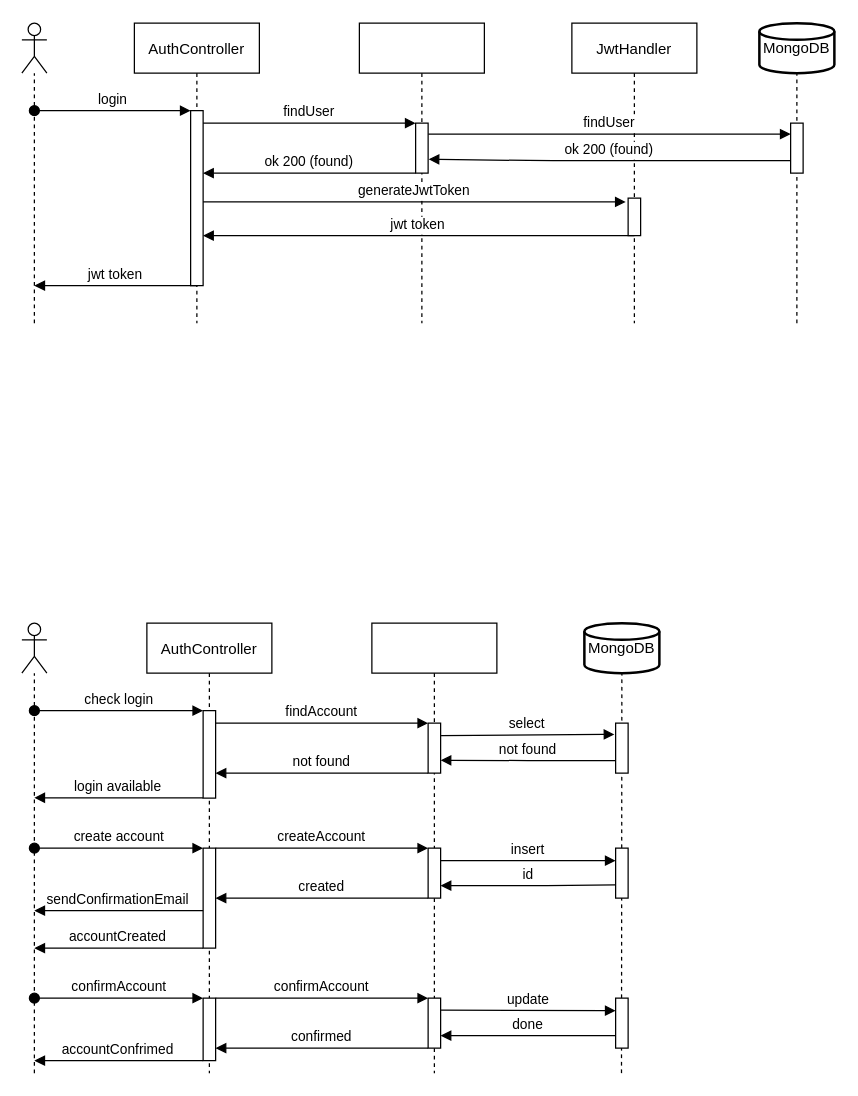
Some shapes in this 858 by 1096 pixel diagram are drawn without their labels. The shapes that lost their labels are listed below. From the top down, each one's centre as x and y in pixels, then its label:
At (x=421, y=172): "AuthRepository".
At (x=434, y=847): "AccountModel".
